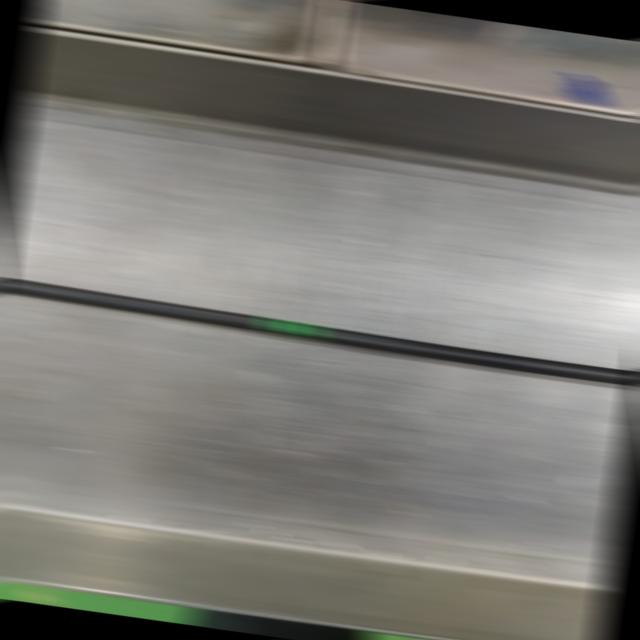green: (258, 317, 325, 340)
